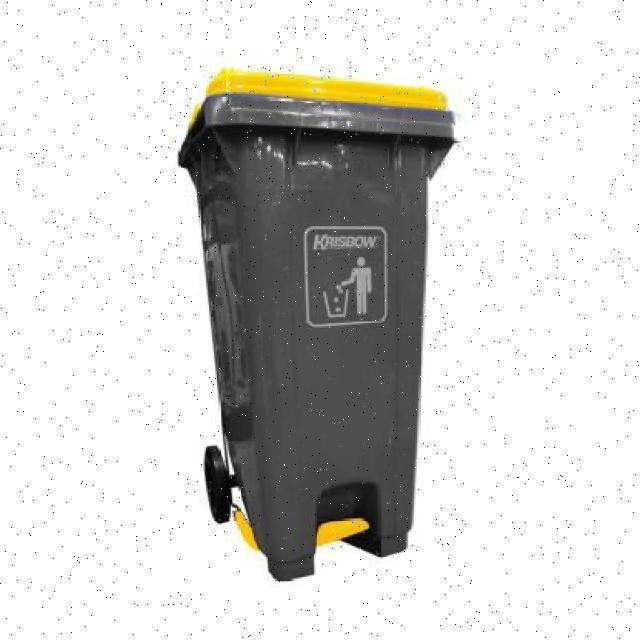garbage container: (137, 58, 510, 592)
